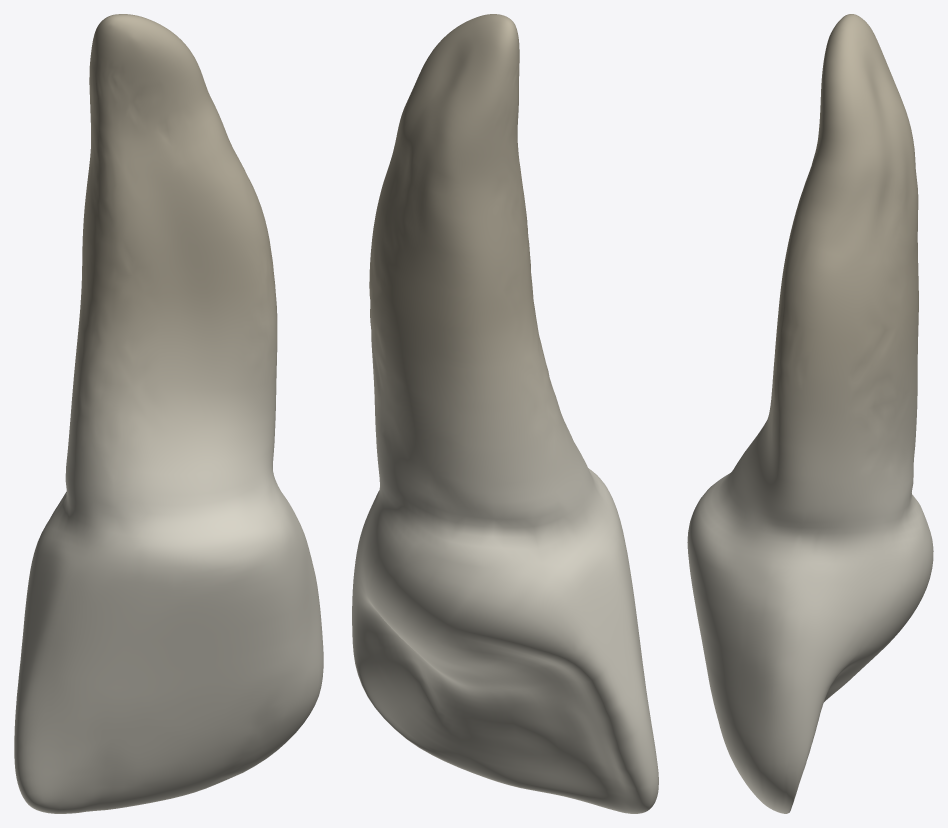
3 views of the same model, side by side, from view 1: azimuth 30°, elevation 25°; view 2: azimuth 150°, elevation 25°; view 3: azimuth 270°, elevation 25° (orthographic). The views are drawn at different scales.
Visible parts, largest first — view 1: Tooth_61_0; view 2: Tooth_61_0; view 3: Tooth_61_0.
Boxes of the visible parts, box(x1,y1,x2,y2) form: Tooth_61_0: box(14, 14, 323, 813); Tooth_61_0: box(352, 14, 658, 813); Tooth_61_0: box(687, 14, 933, 813).
Bounding box in the file's own units: 0.8 × 1.99 × 0.5853.
